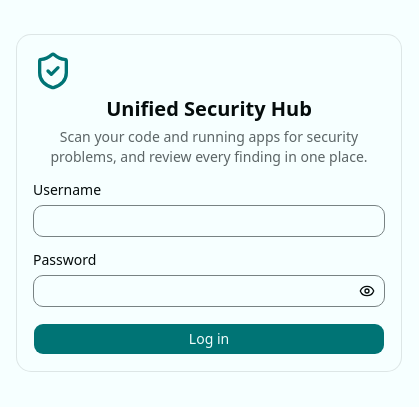
Test: LoginScreen › uses a plain message for an unexpected error
Type "demo" into the field labelled "Username" at (209, 221), box [33,205,385,237]
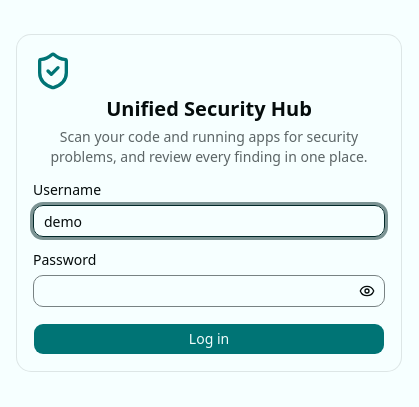
Type "demo123" into the password field labelled "Password" at (209, 291), box [33,275,385,307]
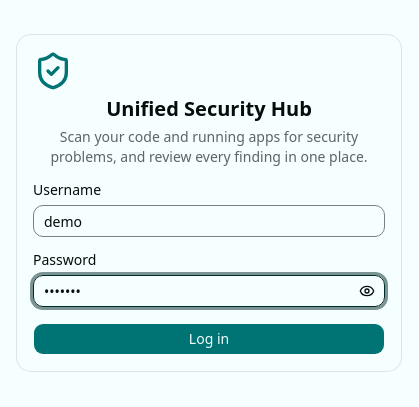
Click the button "Log in" at (209, 339), box [33,323,385,355]
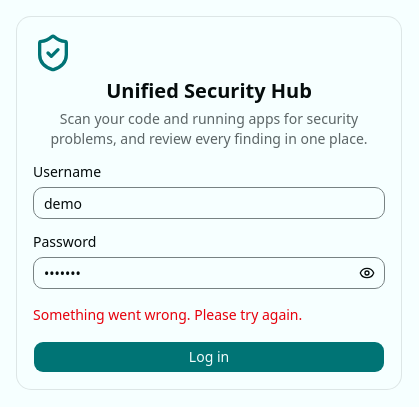
Expected: the message does not show "boom", [33,305,302,324]
Expected: the message reads "Something went wrong. Please try again.", [33,305,302,324]
